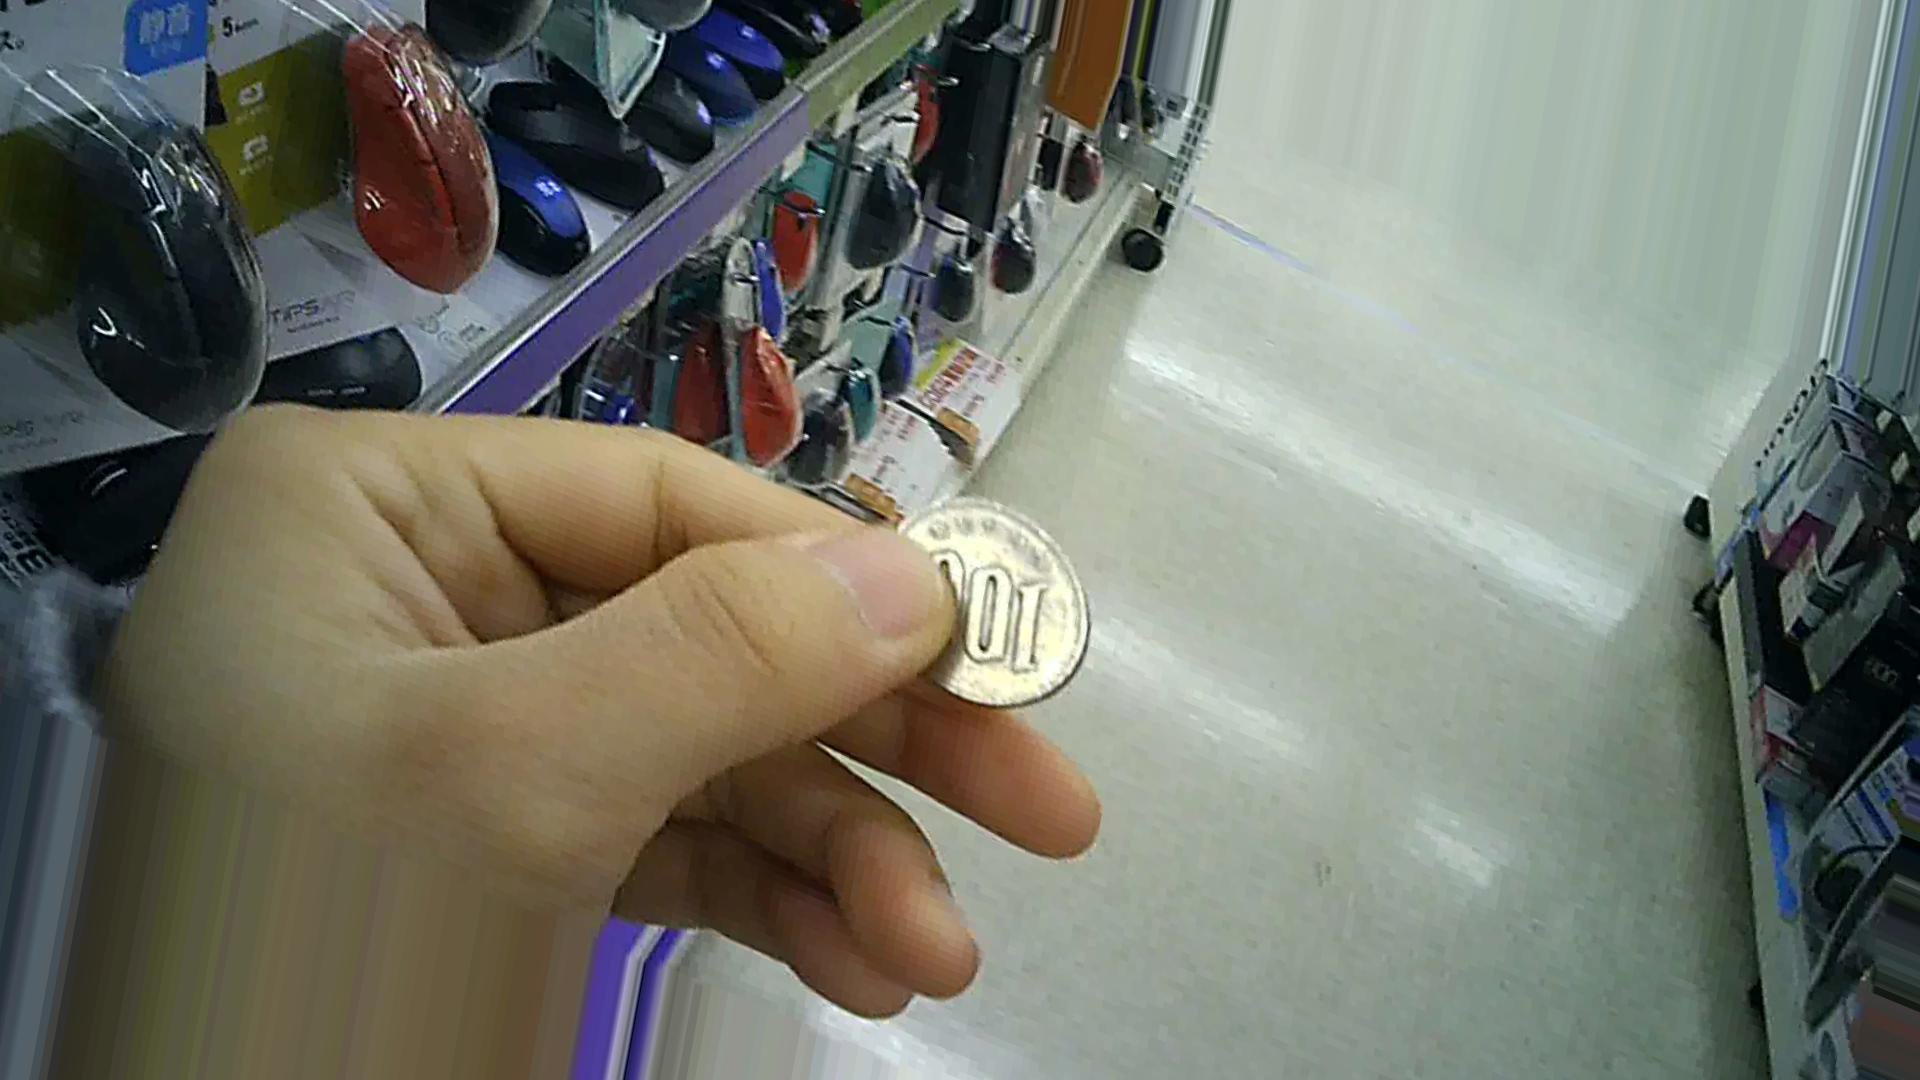100 Yen: (865, 489, 1104, 719)
